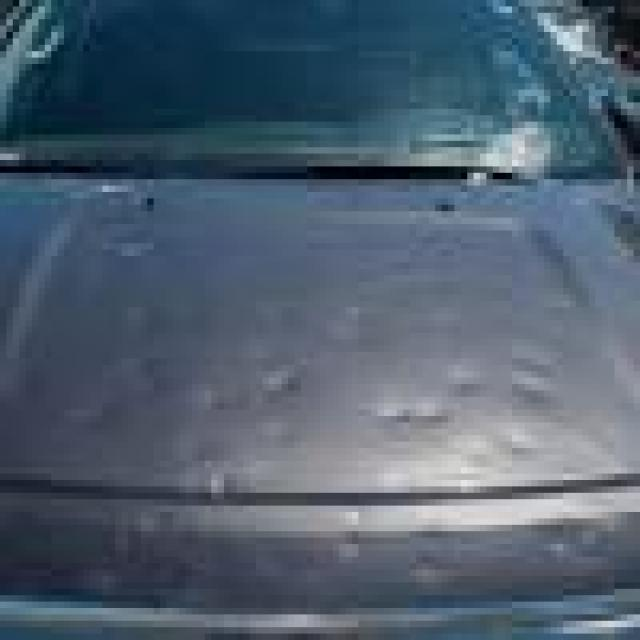minor: (481, 120, 537, 187), (266, 348, 313, 414), (522, 518, 602, 554), (377, 394, 443, 426), (505, 378, 555, 418), (333, 524, 368, 577), (190, 468, 228, 511)
